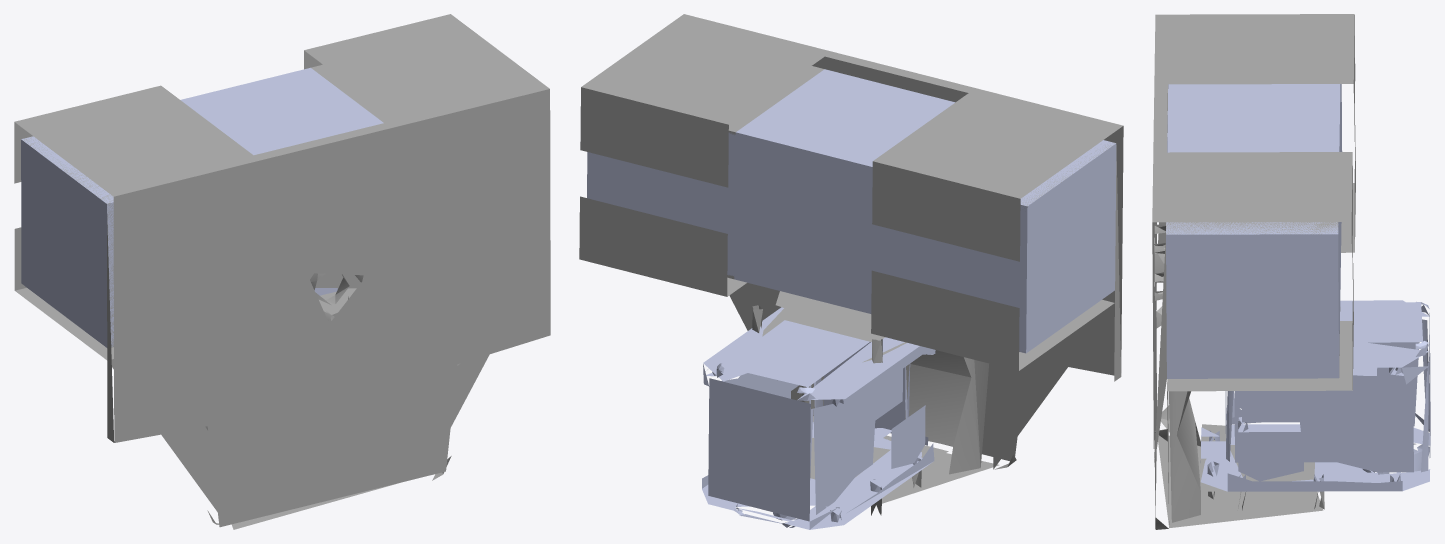
File: part_13_opt.obj
The picture shows the model from 3 angles, left to right: view 1: azimuth 30°, elevation 25°; view 2: azimuth 150°, elevation 25°; view 3: azimuth 270°, elevation 25°; orthographic projection. The views are drawn at different scales.
Visible parts, largest first — view 1: Fillet4_DC_Shell, Boss_Extrude1_DC_Shell; view 2: Fillet4_DC_Shell, Boss_Extrude1_DC_Shell, NONE_DC_Shell; view 3: Fillet4_DC_Shell, Boss_Extrude1_DC_Shell, NONE_DC_Shell.
Part boxes in pixels (<box>): Fillet4_DC_Shell: <box>14,14,550,529</box>; Boss_Extrude1_DC_Shell: <box>21,67,383,347</box>; Fillet4_DC_Shell: <box>579,14,1123,515</box>; Boss_Extrude1_DC_Shell: <box>587,69,1116,353</box>; NONE_DC_Shell: <box>702,307,935,529</box>; Fillet4_DC_Shell: <box>1152,14,1355,529</box>; Boss_Extrude1_DC_Shell: <box>1166,84,1342,378</box>; NONE_DC_Shell: <box>1200,300,1430,491</box>.
Size of the model in its own units: 111 by 88.77 by 61.44.
